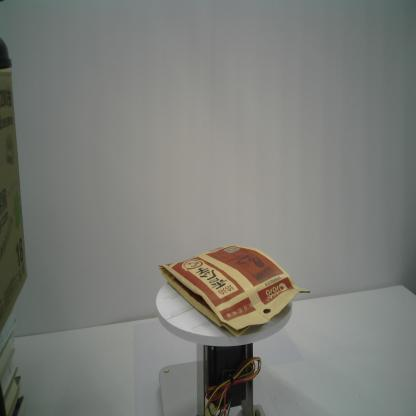Dried Food: (157, 242, 311, 341)
